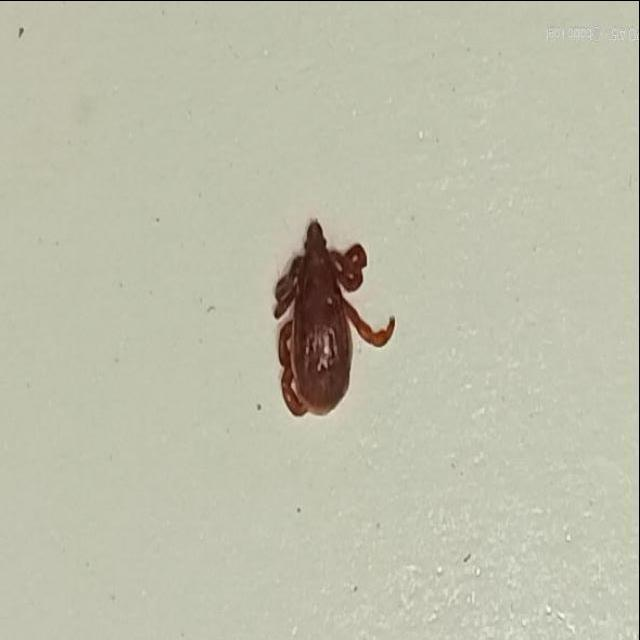Rhipicephalus Sanguineus-M: (273, 216, 397, 415)
